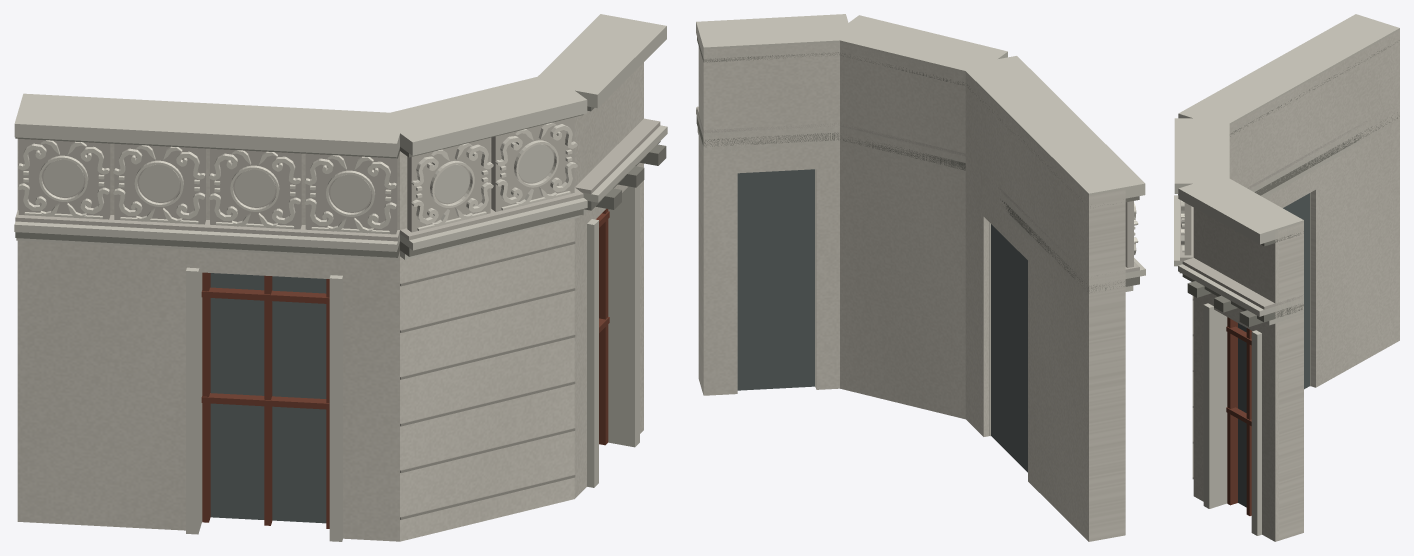
The model's file is huangpu-kung-wo-building-scroll-frieze-web.glb.
3 renders of one model, left to right at view 1: azimuth 30°, elevation 25°; view 2: azimuth 150°, elevation 25°; view 3: azimuth 270°, elevation 25°, orthographic. The views are drawn at different scales.
Visible parts, largest first — view 1: 公和洋行大楼切角圆章与卷草檐带; view 2: 公和洋行大楼切角圆章与卷草檐带; view 3: 公和洋行大楼切角圆章与卷草檐带.
Boxes of the visible parts, bbox=[...] form: 公和洋行大楼切角圆章与卷草檐带: bbox=[14, 14, 667, 541]; 公和洋行大楼切角圆章与卷草檐带: bbox=[696, 14, 1145, 541]; 公和洋行大楼切角圆章与卷草檐带: bbox=[1174, 14, 1399, 541].
Bounding box in the file's own units: 6.08 × 4.02 × 2.63.
8 materials, 1 textured.
